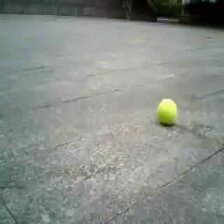tennis: (158, 99, 177, 123)
